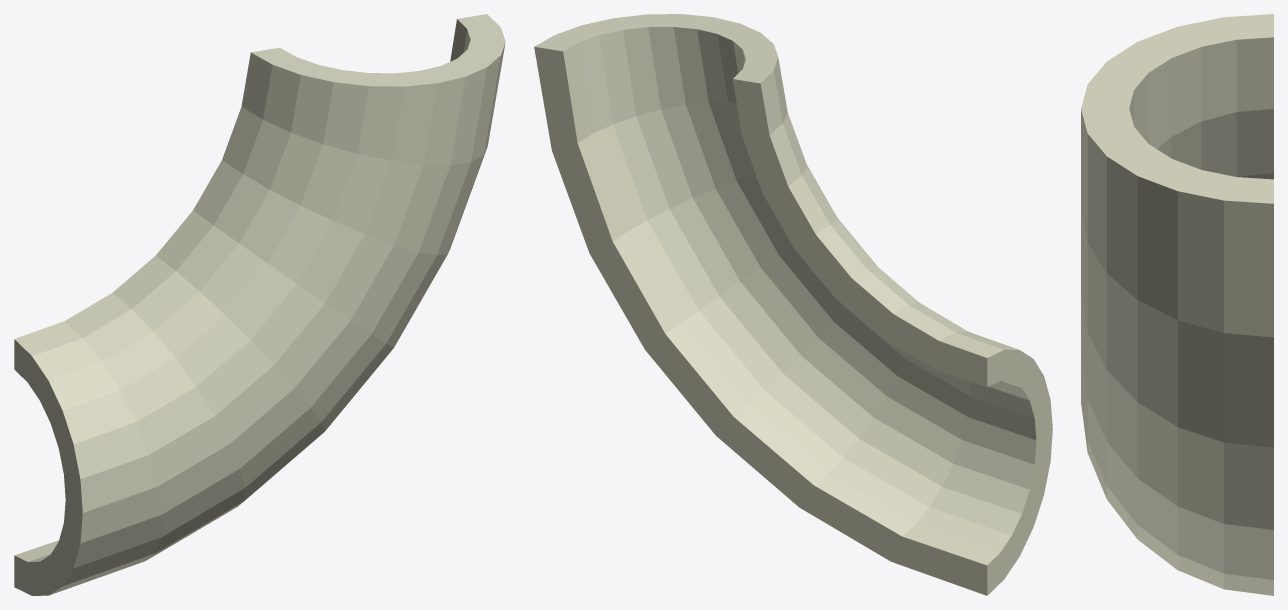
Rendered from section_339.obj.
3 views of the same model, side by side, from view 1: azimuth 30°, elevation 25°; view 2: azimuth 150°, elevation 25°; view 3: azimuth 270°, elevation 25° (orthographic). The views are drawn at different scales.
Size of the model in its own units: 15.95 by 15.38 by 4.
